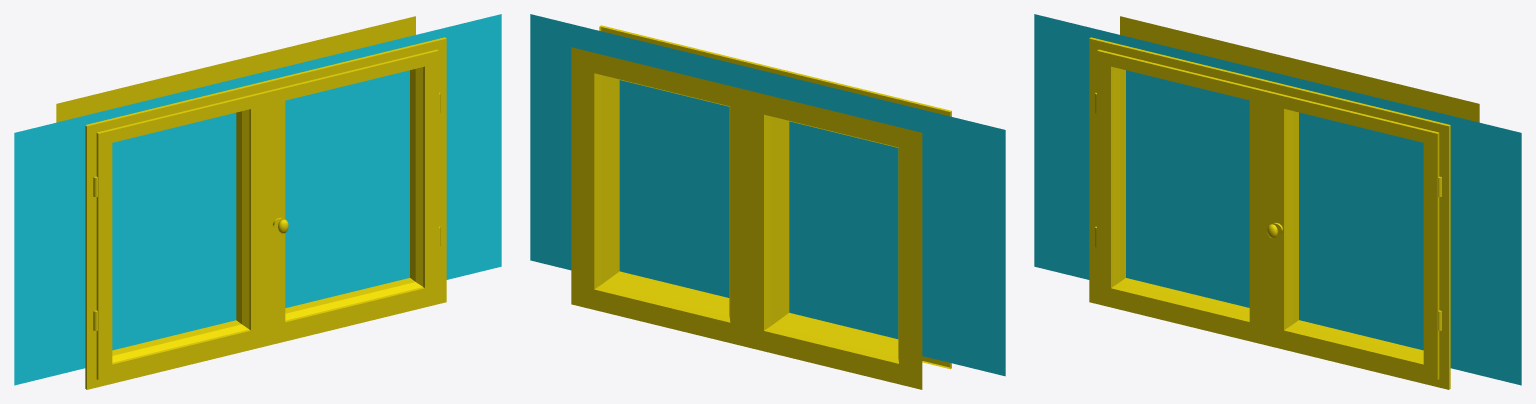
File: Fenetre.fbx
3 views of the same model, side by side, from view 1: azimuth 30°, elevation 25°; view 2: azimuth 150°, elevation 25°; view 3: azimuth 330°, elevation 25° (orthographic). The views are drawn at different scales.
Parts seen in each view (by area): view 1: Fenetre; view 2: Fenetre; view 3: Fenetre.
Boxes of the visible parts, <box> form: Fenetre: <box>14,14,501,389</box>; Fenetre: <box>530,14,1005,389</box>; Fenetre: <box>1034,14,1521,389</box>.
Bounding box in the file's own units: 297 × 41.4 × 155.
